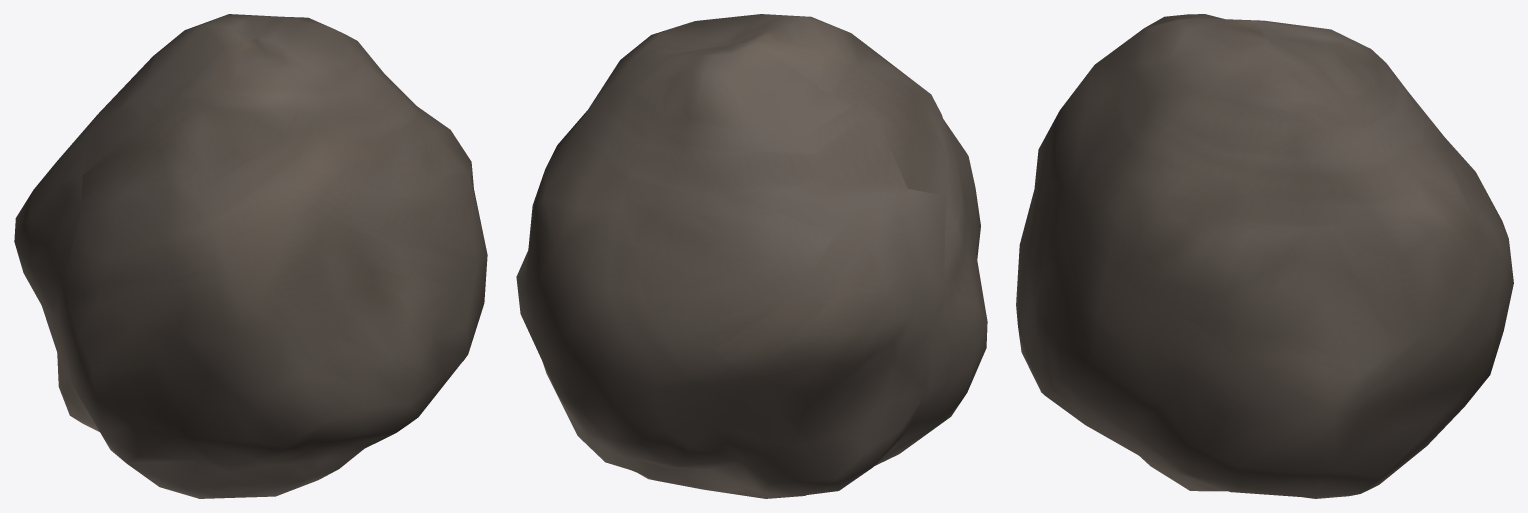
Rendered from PGJ_Roca1.glb.
The picture shows the model from 3 angles, left to right: view 1: azimuth 30°, elevation 25°; view 2: azimuth 150°, elevation 25°; view 3: azimuth 270°, elevation 25°; orthographic projection. The views are drawn at different scales.
Parts seen in each view (by area): view 1: Sphere; view 2: Sphere; view 3: Sphere.
Boxes of the visible parts, left/top/right/bottom form: Sphere: left=14, top=14, right=487, bottom=498; Sphere: left=516, top=14, right=987, bottom=498; Sphere: left=1016, top=14, right=1513, bottom=498.
Bounding box in the file's own units: 2.06 × 2.26 × 2.2.
1 material, 1 textured.
